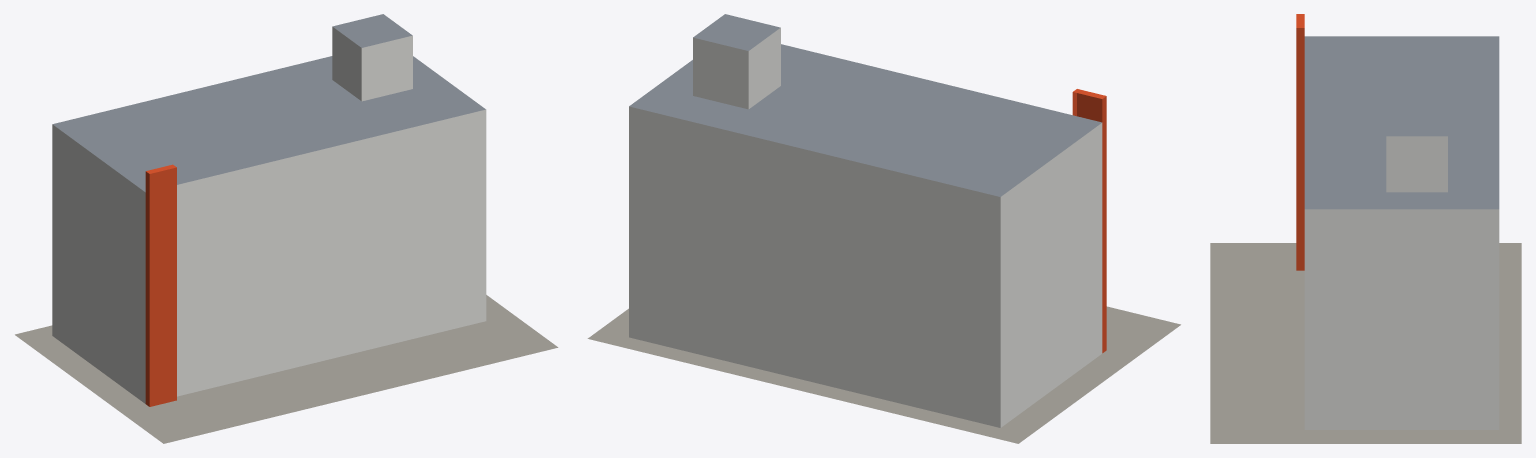
Rendered from mashup-admin-far.fbx.
3 views of the same model, side by side, from view 1: azimuth 30°, elevation 25°; view 2: azimuth 150°, elevation 25°; view 3: azimuth 270°, elevation 25° (orthographic). The views are drawn at different scales.
Parts seen in each view (by area): view 1: a1082/0/mashup-admin-far; view 2: a1082/0/mashup-admin-far; view 3: a1082/0/mashup-admin-far.
Part boxes in pixels (<box>): a1082/0/mashup-admin-far: <box>15,14,558,443</box>; a1082/0/mashup-admin-far: <box>587,14,1180,443</box>; a1082/0/mashup-admin-far: <box>1210,14,1521,443</box>.
Size of the model in its own units: 23.2 by 14.88 by 15.2.
